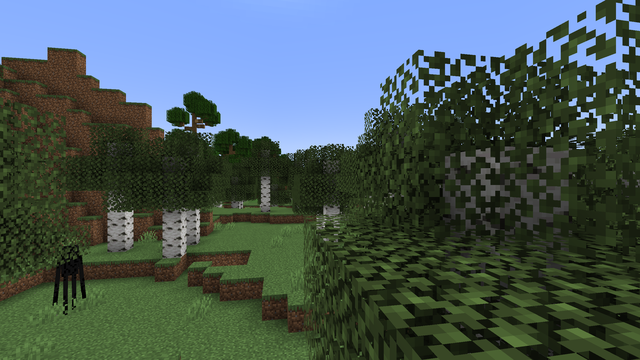endermens: (55, 259, 82, 317)
